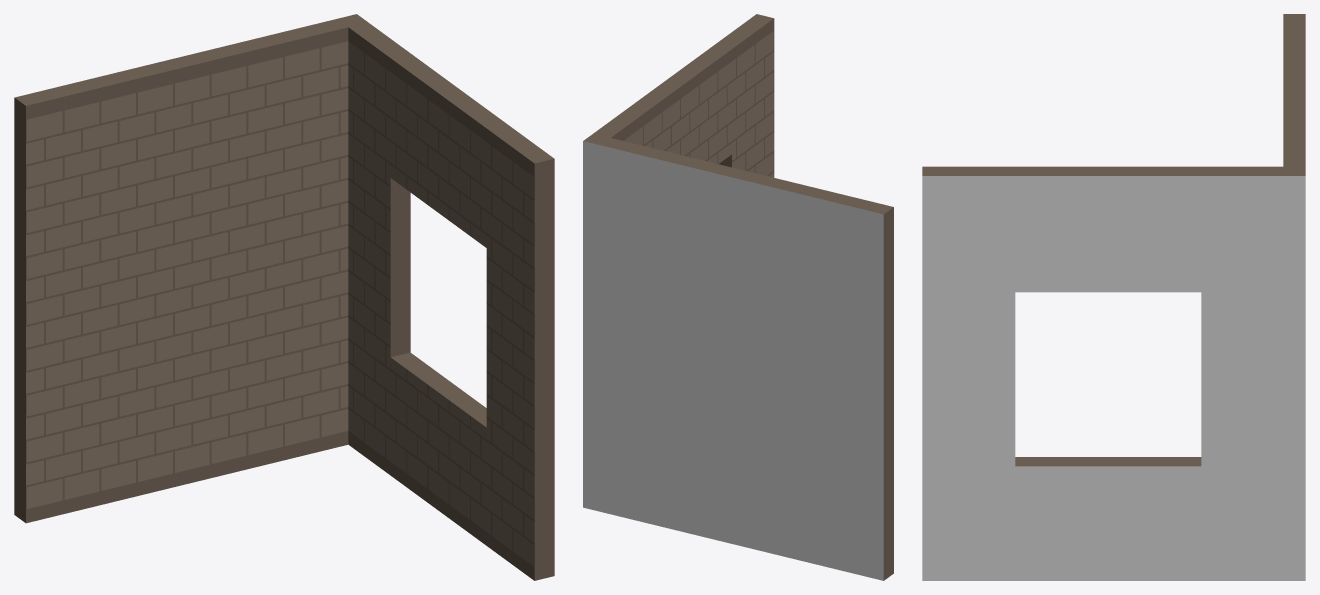
Rendered from Wall1_C10_11.fbx.
3 renders of one model, left to right at view 1: azimuth 30°, elevation 25°; view 2: azimuth 150°, elevation 25°; view 3: azimuth 270°, elevation 25°, orthographic. The views are drawn at different scales.
Visible parts, largest first — view 1: Wall1_C10_11; view 2: Wall1_C10_11; view 3: Wall1_C10_11.
Boxes of the visible parts, bbox=[...] form: Wall1_C10_11: bbox=[14, 14, 554, 580]; Wall1_C10_11: bbox=[583, 14, 893, 580]; Wall1_C10_11: bbox=[922, 14, 1305, 580].
Bounding box in the file's own units: 258 × 300 × 258.
